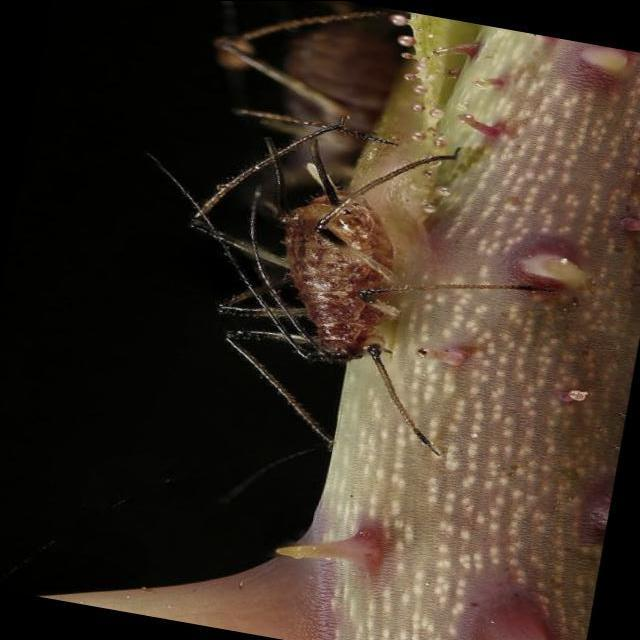aphid: (160, 93, 548, 460)
